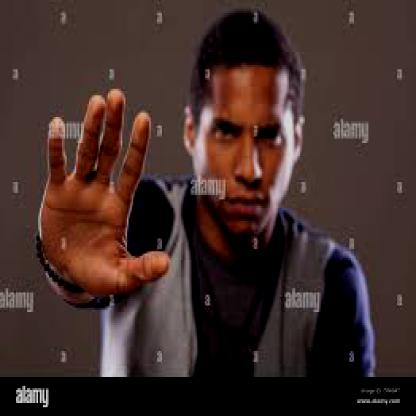Stop: (19, 74, 161, 289)
